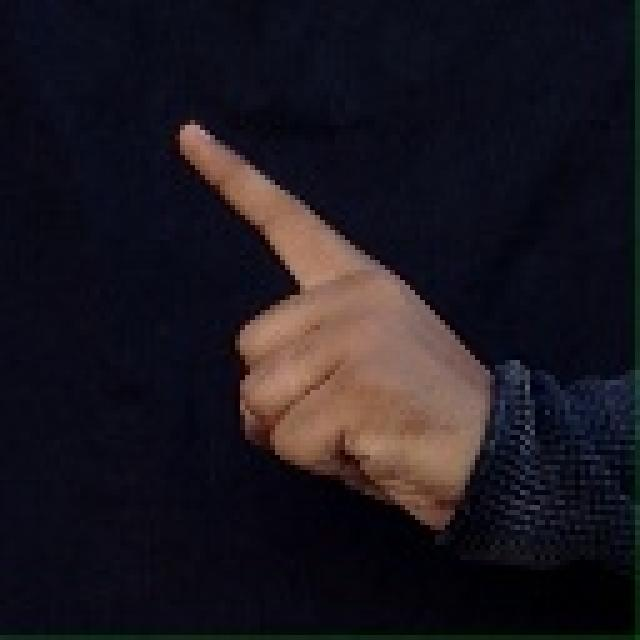Alphabet-I: (180, 104, 502, 542)
